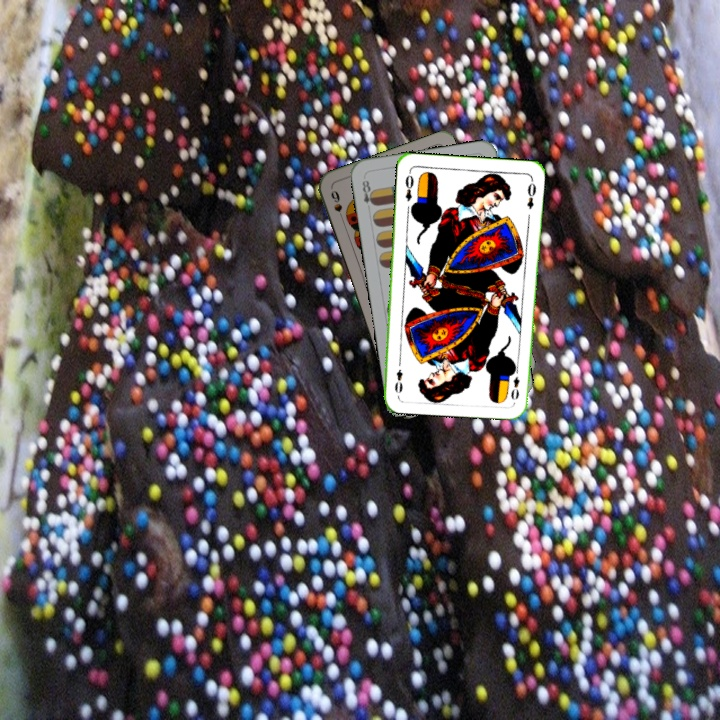E8: (358, 176, 378, 208)
EO: (507, 363, 522, 403), (401, 168, 416, 204)
S9: (327, 186, 347, 225)
